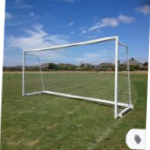goals: (20, 34, 135, 120)
